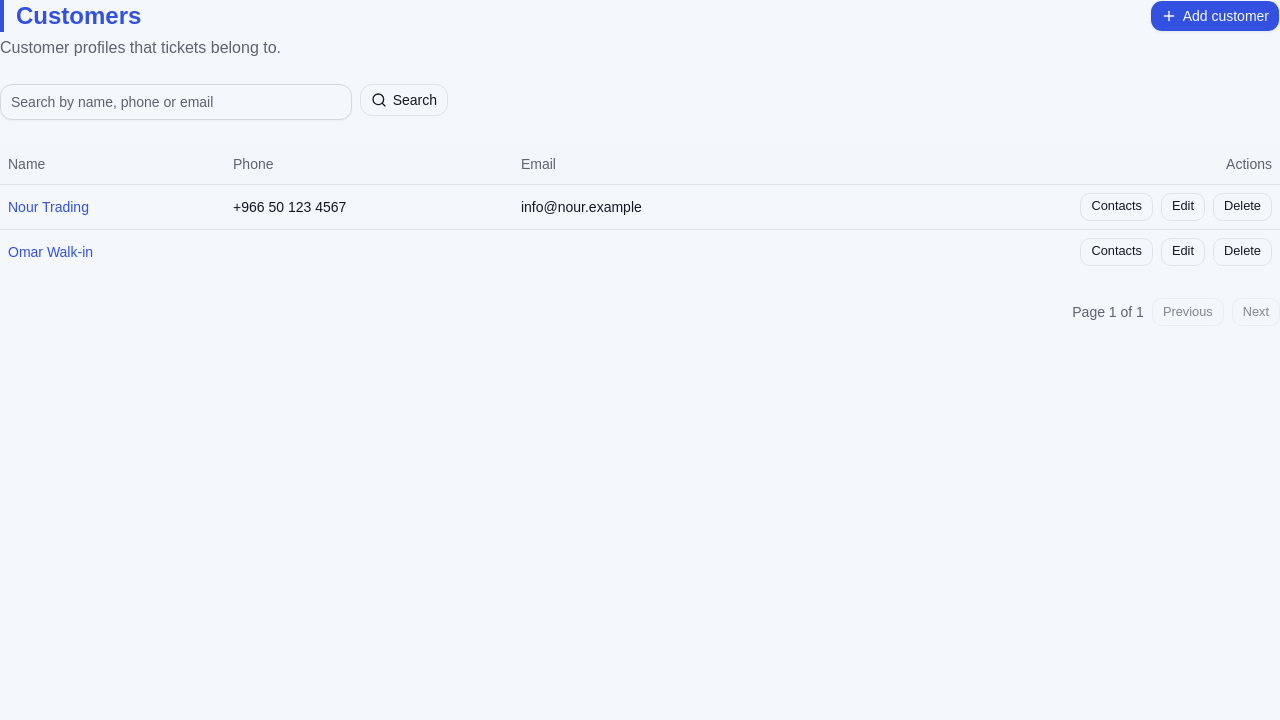
Test: CustomersPage › creates a customer with only a name and reloads the list
Expected: the row "Nour Trading" is shown, [0,184,1279,229]
Step 1. Click the button "Add customer" → (1215, 16), box [1150,0,1279,32]
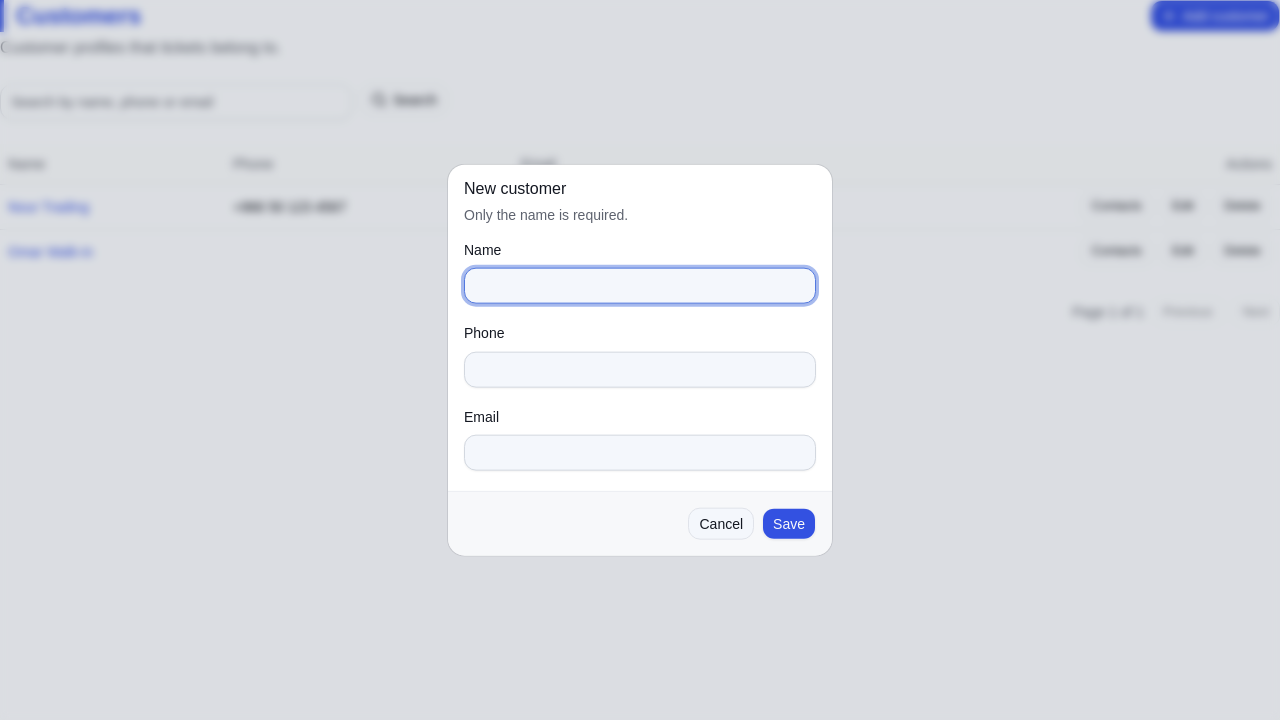
Step 2. Type "  Lina Store  " into the field labelled "Name" → (640, 286), box [464,268,816,304]
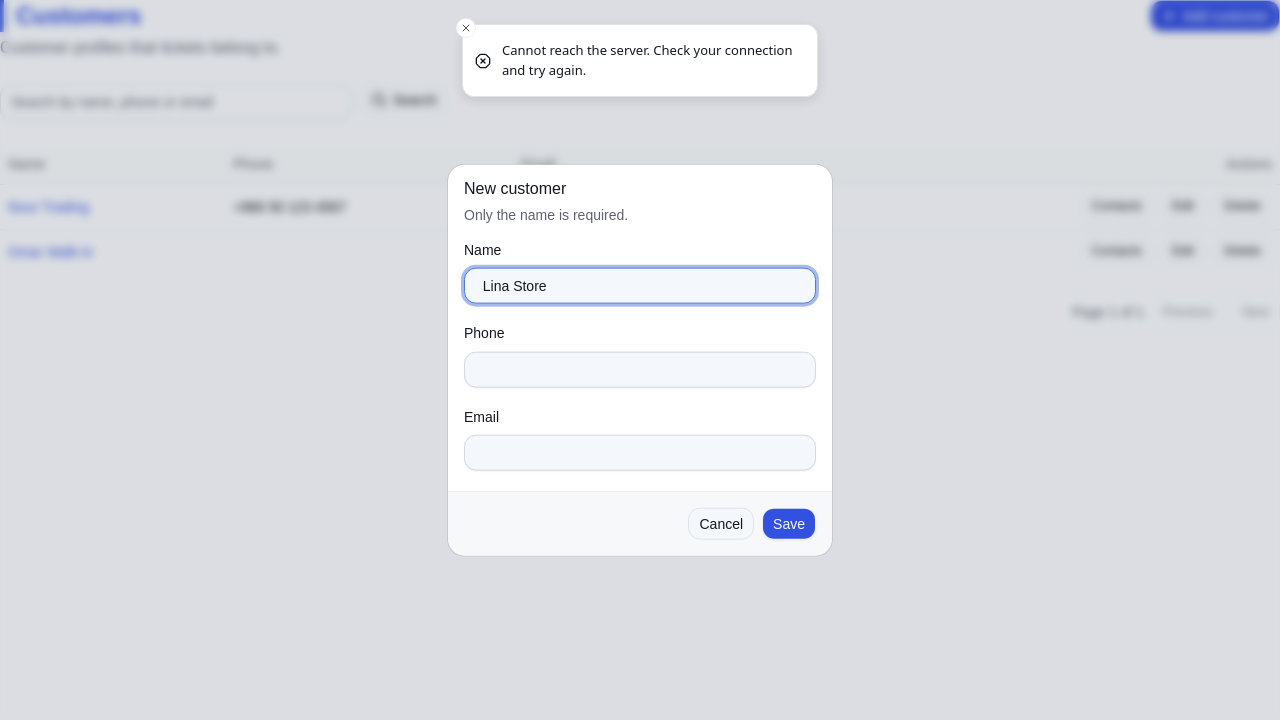
Step 3. Click the button "Save" → (789, 523), box [762,507,816,539]
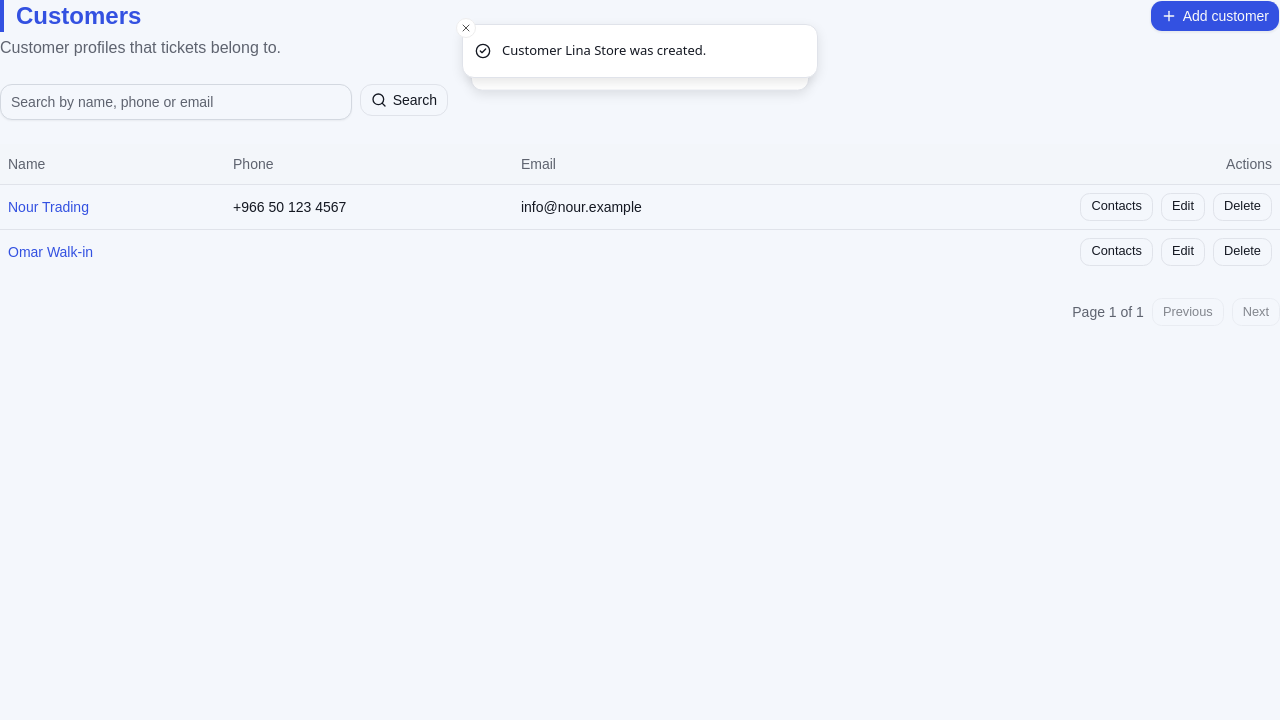
Now the dialog is gone
Now the text "Customer Lina Store was created." is shown, box [502,41,706,60]
